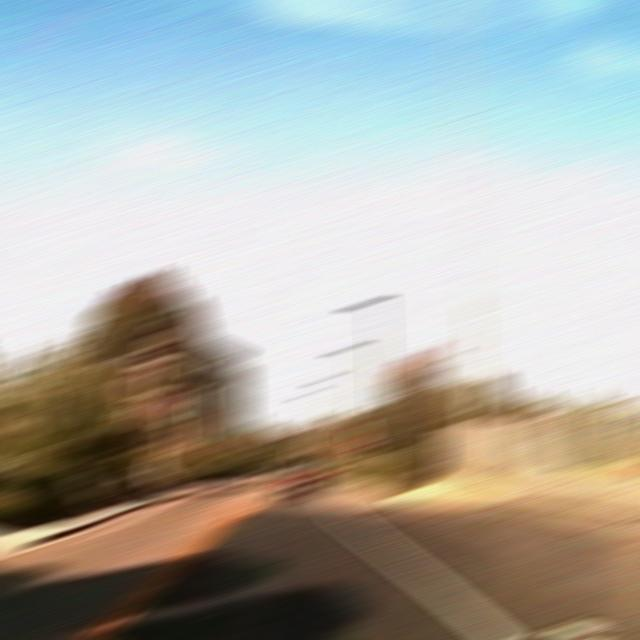stop_sign: (347, 438, 371, 449)
